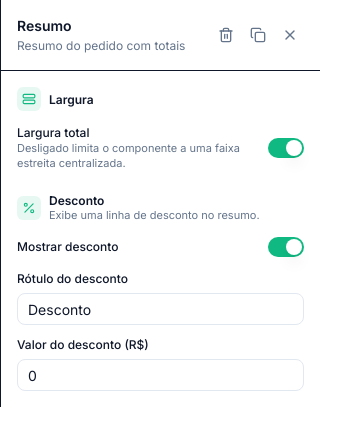
Test: PropertyPanel: novos controles › desconto do resumo esconde campos quando desativado
Expected: the text "Rótulo do desconto" is shown, top-left (17, 271), bottom-right (128, 286)
Click the switch named "Mostrar desconto" at (286, 247), box top-left (268, 237), bottom-right (304, 257)
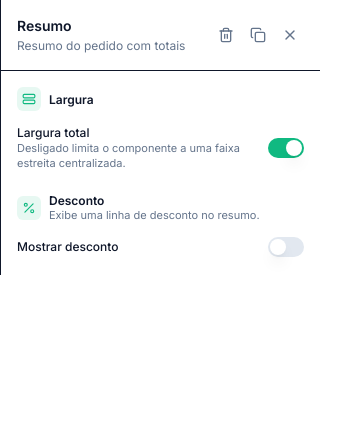
Expected: the text "Rótulo do desconto" is gone
